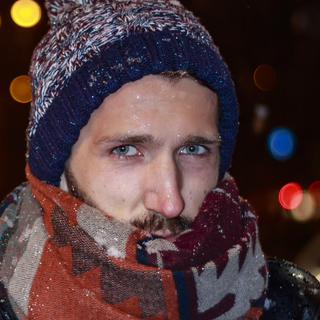eye: (101, 138, 148, 164), (175, 136, 216, 162)
